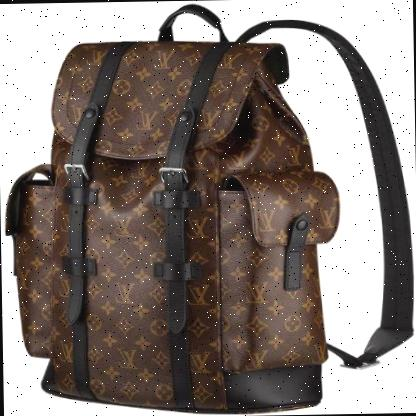bag: (0, 9, 348, 416)
